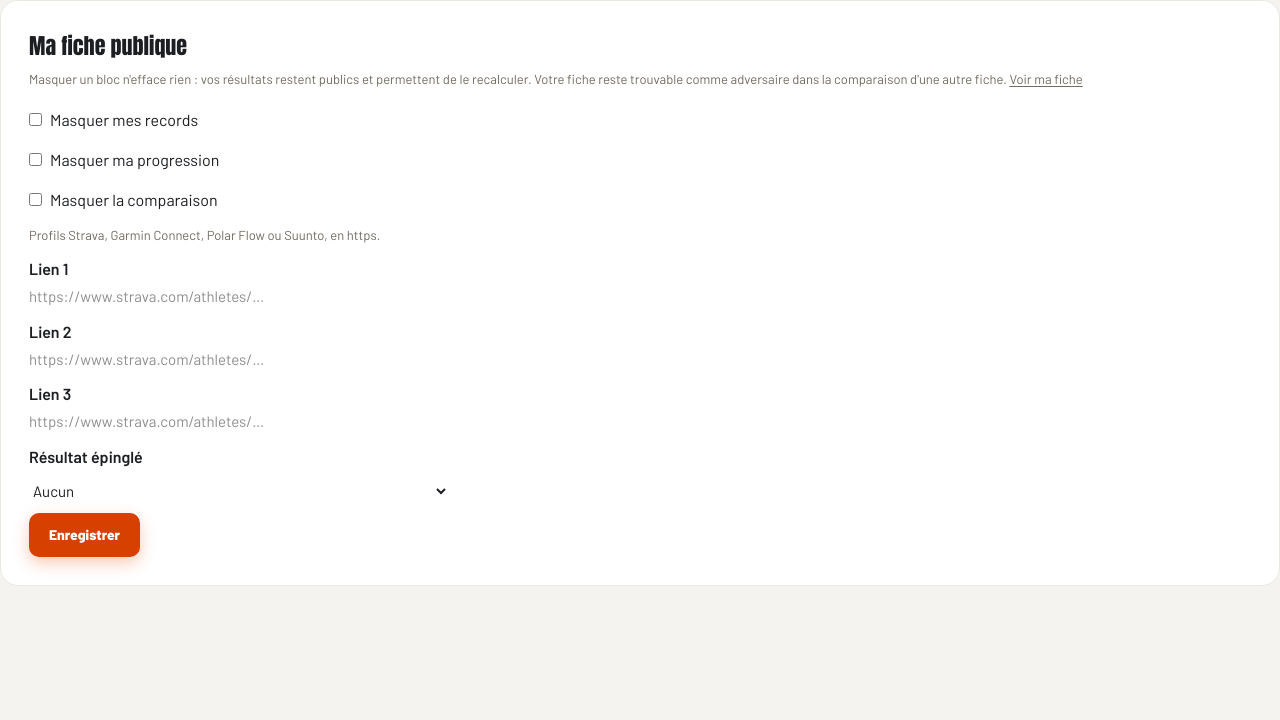
it: MaFichePublique (#1692) › shows the server message on a refused link
Step 1. Click the button "Enregistrer" → point(85, 534), box [29,512,140,556]
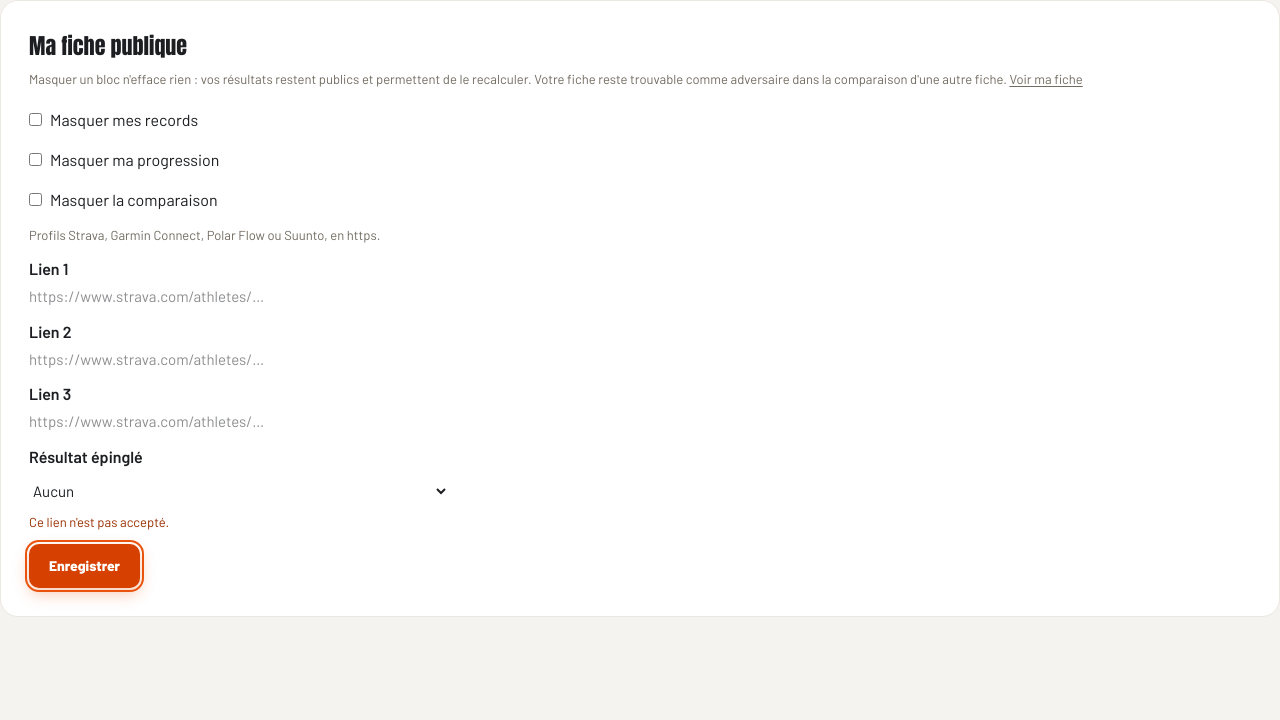
Check: the message reads "Ce lien n'est pas accepté.", box [29,514,169,530]
